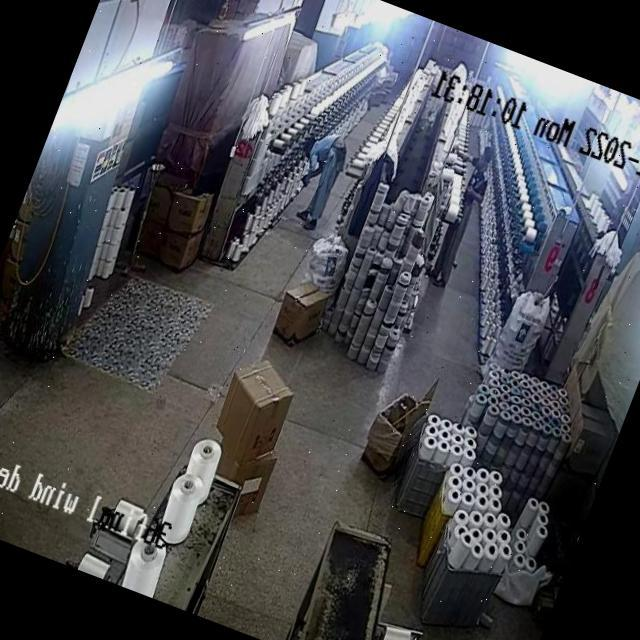person: (430, 148, 500, 288), (289, 130, 355, 224)
